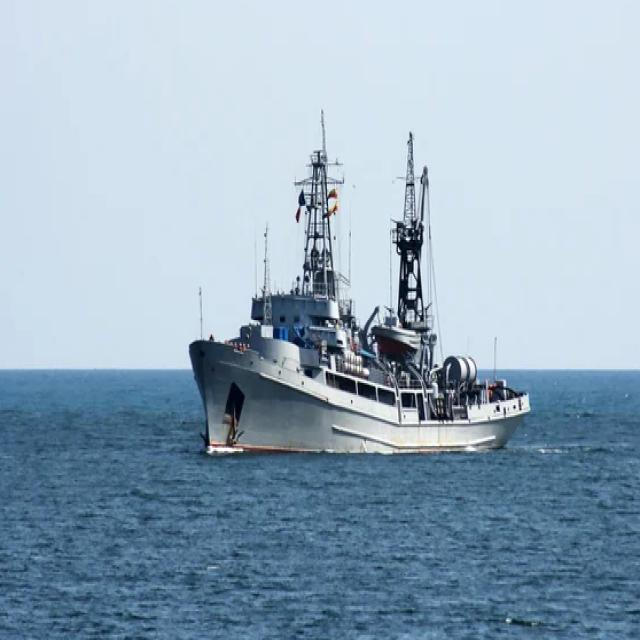navalvessels: (174, 134, 528, 471)
